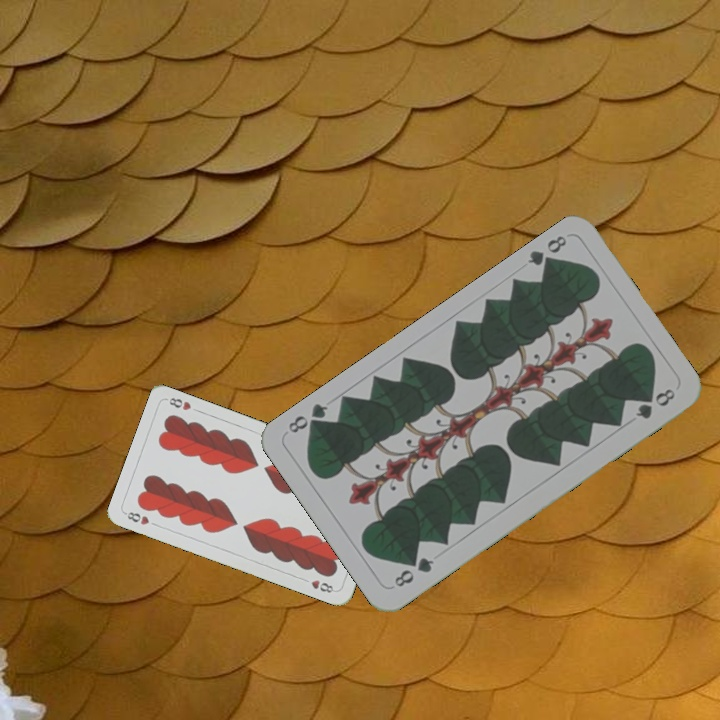G8: (523, 231, 570, 273), (390, 553, 437, 590)
H8: (121, 508, 152, 528)
